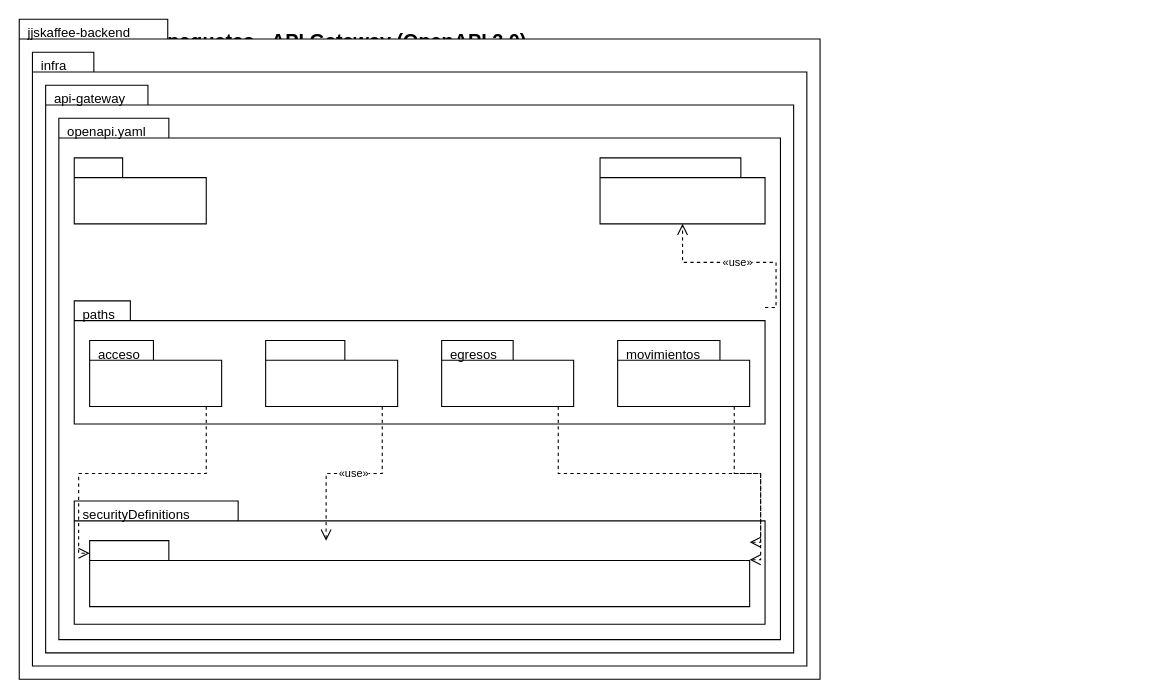
Image size: 1161x699. Some labels were removed from this diagram. The shapes that lost their labels are listed below. From the top down, each one's centre as x and y in pixels, then its label:
(x=139, y=190): info
(x=682, y=190): x-google-backend
(x=331, y=372): ingresos
(x=419, y=573): firebase
